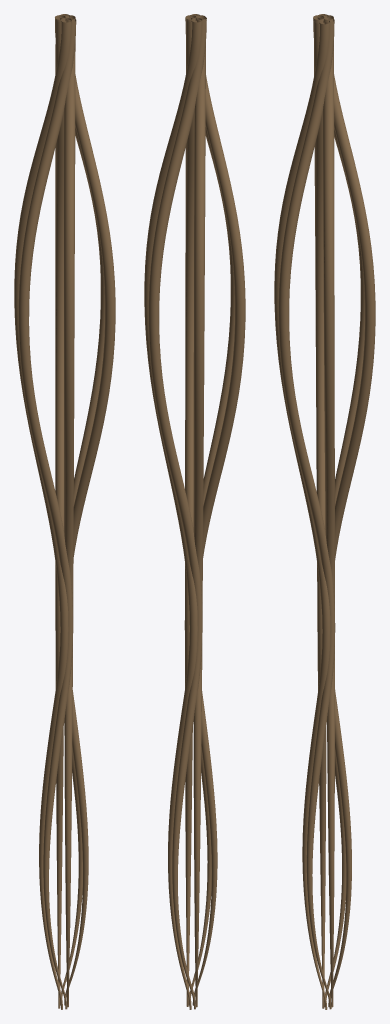
File: Weapon_MS_Staff.glb
The picture shows the model from 3 angles, left to right: view 1: azimuth 90°, elevation 25°; view 2: azimuth 150°, elevation 25°; view 3: azimuth 330°, elevation 25°; orthographic projection.
Parts seen in each view (by area): view 1: Weapon_MS_Staff; view 2: Weapon_MS_Staff; view 3: Weapon_MS_Staff.
Part boxes in pixels (box(x1,y1,x2,y2)): Weapon_MS_Staff: box(14, 14, 115, 1009); Weapon_MS_Staff: box(144, 14, 245, 1009); Weapon_MS_Staff: box(274, 14, 375, 1009).
Bounding box in the file's own units: 0.1718 × 1.7 × 0.1574.
